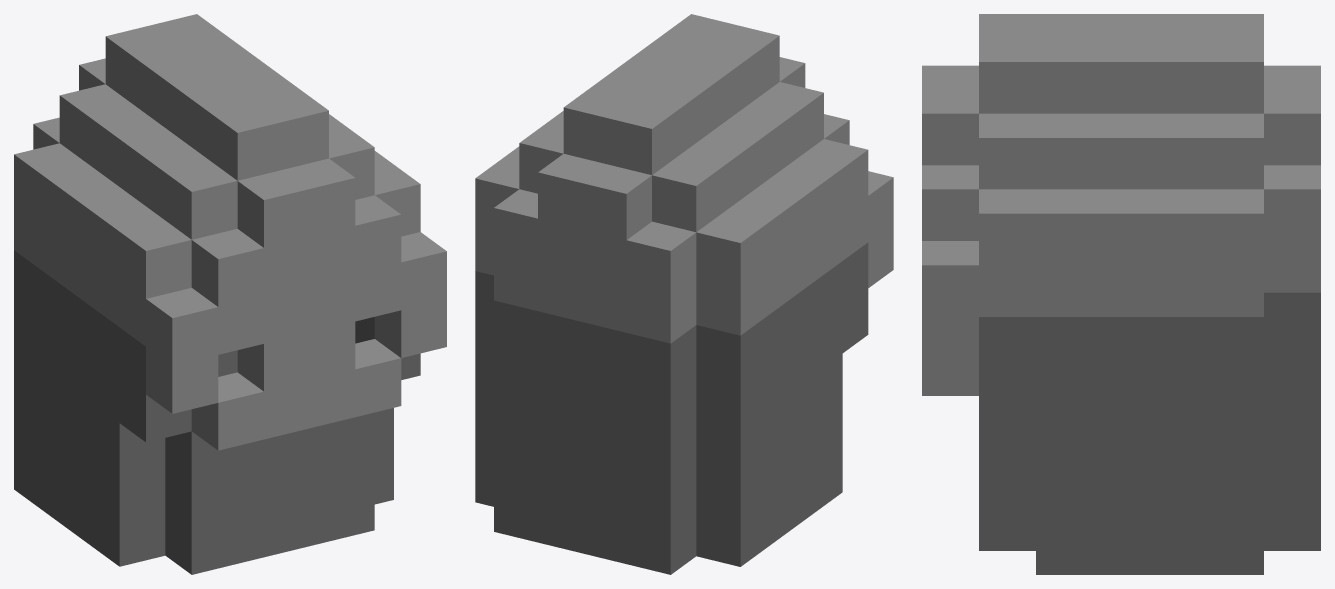
The model's file is characters_export_red-197-helm_hvy_2a_ja.obj.
3 views of the same model, side by side, from view 1: azimuth 30°, elevation 25°; view 2: azimuth 150°, elevation 25°; view 3: azimuth 270°, elevation 25° (orthographic). The views are drawn at different scales.
Visible parts, largest first — view 1: helm_hvy_2a_ja; view 2: helm_hvy_2a_ja; view 3: helm_hvy_2a_ja.
Part boxes in pixels (x1,y1,x2,y2): helm_hvy_2a_ja: (14,14,446,574); helm_hvy_2a_ja: (475,14,893,574); helm_hvy_2a_ja: (922,14,1320,574).
Bounding box in the file's own units: 0.6 × 0.9 × 0.7.
Materials: 1 (1 with a texture image).
